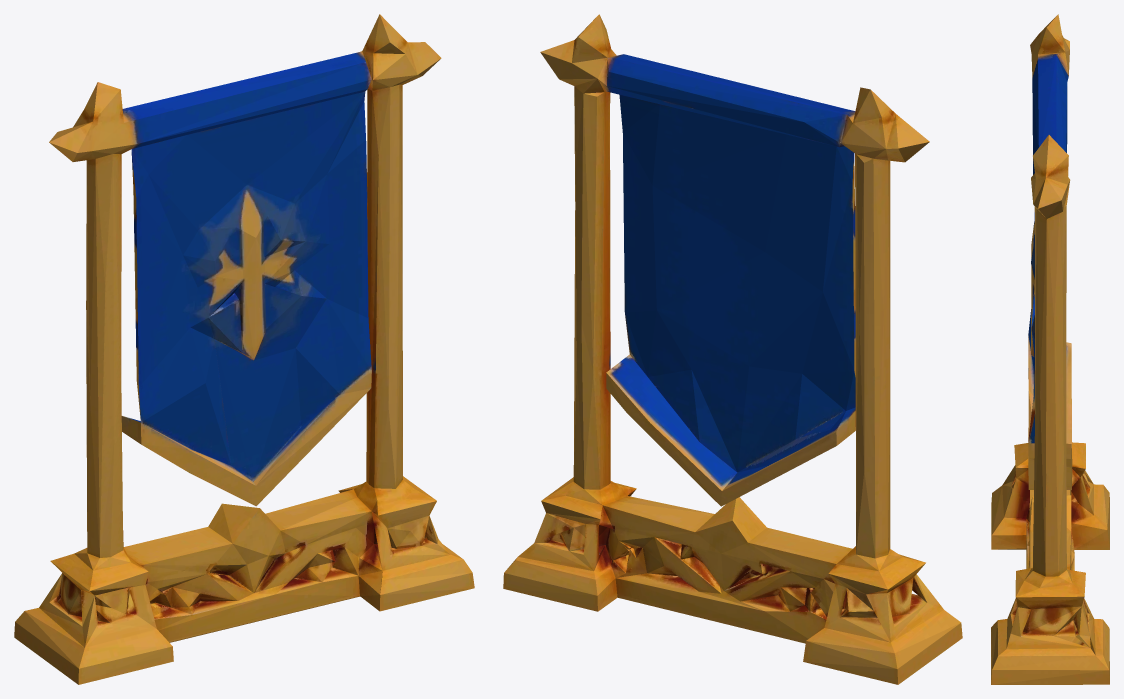
Rendered from heraldry_banner_stand.glb.
3 renders of one model, left to right at view 1: azimuth 30°, elevation 25°; view 2: azimuth 150°, elevation 25°; view 3: azimuth 270°, elevation 25°, orthographic. The views are drawn at different scales.
Size of the model in its own units: 1.45 by 1.98 by 0.4081.
Materials: 1 (1 with a texture image).
